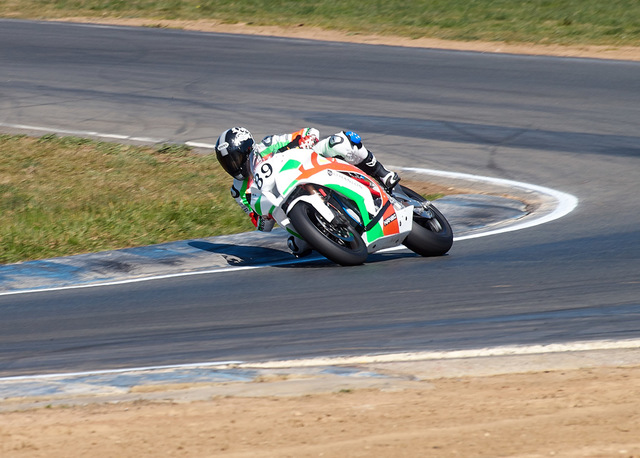helmet: (213, 127, 263, 175)
